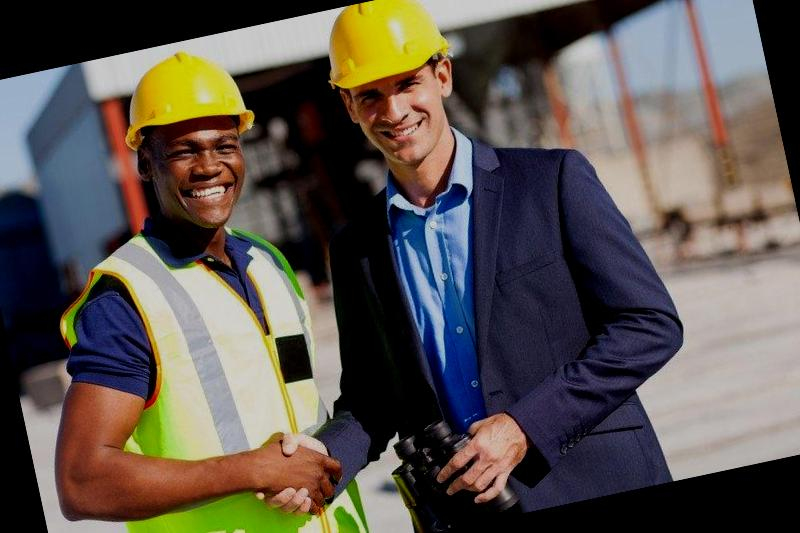helmet: (104, 39, 260, 160), (306, 0, 462, 102)
no_vest: (318, 130, 618, 507)
person: (268, 0, 705, 533), (0, 33, 379, 533)
